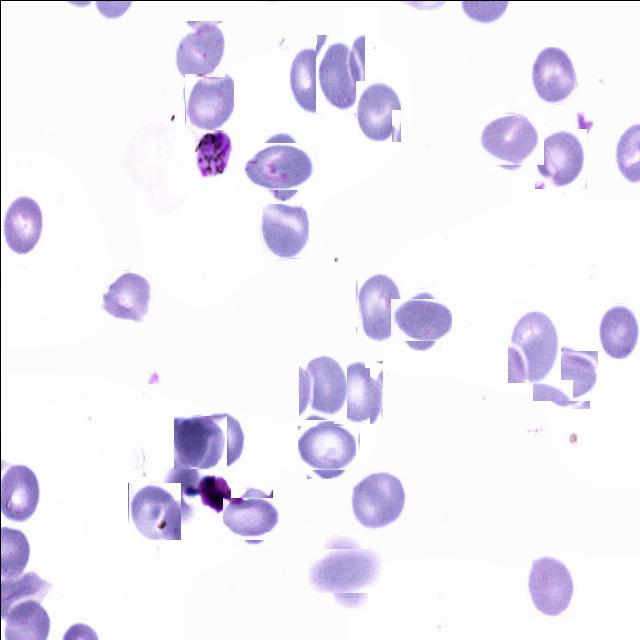red blood cell: (507, 308, 560, 382), (248, 135, 310, 196), (316, 34, 364, 112), (314, 540, 375, 601), (348, 469, 406, 532), (354, 270, 401, 345), (480, 110, 540, 168), (527, 550, 577, 619), (535, 346, 593, 404), (297, 354, 346, 420), (174, 20, 226, 82), (332, 360, 382, 424), (290, 44, 334, 115), (534, 128, 586, 188), (127, 482, 180, 540), (528, 46, 579, 104), (184, 73, 233, 133), (354, 80, 401, 142), (302, 421, 356, 474), (173, 415, 226, 468), (394, 292, 446, 344), (259, 203, 308, 258), (196, 414, 244, 470), (100, 270, 152, 321), (2, 192, 44, 254), (226, 492, 276, 543), (598, 303, 639, 358)
schizont: (194, 129, 232, 178)
